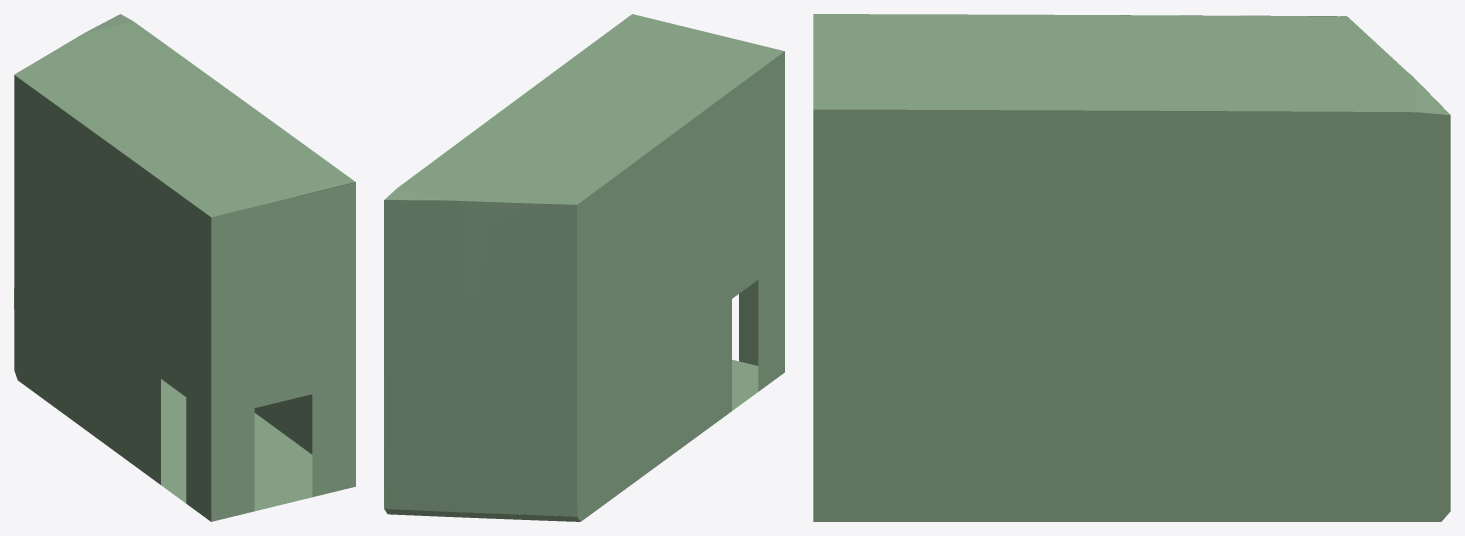
File: WELDING_WORKSHOP.glb
The picture shows the model from 3 angles, left to right: view 1: azimuth 30°, elevation 25°; view 2: azimuth 150°, elevation 25°; view 3: azimuth 270°, elevation 25°; orthographic projection. The views are drawn at different scales.
Parts seen in each view (by area): view 1: PL_SideTransxFR2P_001001-11_NVA36_2014, PL_No8LBHDxAPTP_009003-10_NVA_1993, PL_SideTransxFR2P_001002-11_NVA36_2014, PL_UDxAPTP_003003-12_NVA_1993, PL_No8LBHDxAPTP_009005-10_NVA_1993, PL_UDxAPTP_002003-12_NVA_1993, PL_UDxAPTP_014005-12_NVA_1993, PL_UDxAPTP_002005-12_NVA_1993, PL_No8LBHDxAPTP_013008-10_NVA_1993, PL_TankTopxAPTP_008003-12.5_NVA_1993, PL_No8LBHDxAPTP_013015-10_NVA_1993, PL_No8LBHDxAPTP_013010-10_NVA_1993 (+8 smaller); view 2: PL_SideTransxFR2P_001001-11_NVA36_2014, PL_OuterShellxAPTP_014003-18.5_NVA_1993, PL_OuterShellxAPTP_014005-18.5_NVA_1993, PL_SideTransxFR2P_001002-11_NVA36_2014, PL_UDxAPTP_003003-12_NVA_1993, PL_OuterShellxAPTP_013005-18.5_NVA_1993, PL_UDxAPTP_002003-12_NVA_1993, PL_OuterShellxAPTP_013006-18.5_NVA_1993, PL_UDxAPTP_014005-12_NVA_1993, PL_OuterShellxAPTP_013010-18.5_NVA_1993, PL_UDxAPTP_002005-12_NVA_1993, PL_OuterShellxAPTP_013011-18.5_NVA_1993 (+5 smaller); view 3: PL_SideTransxFR6P_003001-11_NVA_1993, PL_SideTransxFR6P_001001-11_NVA_1993, PL_SideTransxFR6P_002002-11_NVA_1993, PL_SideTransxFR6P_002001-11_NVA_1993, PL_UDxAPTP_003003-12_NVA_1993, PL_SideTransxFR6P_001002-11_NVA_1993, PL_UDxAPTP_002003-12_NVA_1993, PL_UDxAPTP_014005-12_NVA_1993, PL_UDxAPTP_002005-12_NVA_1993, PL_UDxAPTP_012003-12_NVA_1993.
Part boxes in pixels (<box>): PL_SideTransxFR2P_001001-11_NVA36_2014: <box>14,75,211,453</box>; PL_No8LBHDxAPTP_009003-10_NVA_1993: <box>211,196,297,385</box>; PL_SideTransxFR2P_001002-11_NVA36_2014: <box>14,310,160,484</box>; PL_UDxAPTP_003003-12_NVA_1993: <box>14,45,202,148</box>; PL_No8LBHDxAPTP_009005-10_NVA_1993: <box>298,184,348,364</box>; PL_UDxAPTP_002003-12_NVA_1993: <box>117,127,297,217</box>; PL_UDxAPTP_014005-12_NVA_1993: <box>89,31,260,127</box>; PL_UDxAPTP_002005-12_NVA_1993: <box>203,113,355,195</box>; PL_No8LBHDxAPTP_013008-10_NVA_1993: <box>211,364,297,453</box>; PL_TankTopxAPTP_008003-12.5_NVA_1993: <box>161,379,312,500</box>; PL_No8LBHDxAPTP_013015-10_NVA_1993: <box>298,352,348,428</box>; PL_No8LBHDxAPTP_013010-10_NVA_1993: <box>211,443,254,521</box>; PL_SideTransxFR2P_001001-11_NVA36_2014: <box>577,51,784,452</box>; PL_OuterShellxAPTP_014003-18.5_NVA_1993: <box>461,201,576,366</box>; PL_OuterShellxAPTP_014005-18.5_NVA_1993: <box>384,200,460,362</box>; PL_SideTransxFR2P_001002-11_NVA36_2014: <box>577,339,731,521</box>; PL_UDxAPTP_003003-12_NVA_1993: <box>473,102,684,204</box>; PL_OuterShellxAPTP_013005-18.5_NVA_1993: <box>461,362,576,452</box>; PL_UDxAPTP_002003-12_NVA_1993: <box>594,29,784,124</box>; PL_OuterShellxAPTP_013006-18.5_NVA_1993: <box>461,448,577,516</box>; PL_UDxAPTP_014005-12_NVA_1993: <box>412,87,592,191</box>; PL_OuterShellxAPTP_013010-18.5_NVA_1993: <box>384,359,460,448</box>; PL_UDxAPTP_002005-12_NVA_1993: <box>533,14,692,102</box>; PL_OuterShellxAPTP_013011-18.5_NVA_1993: <box>384,445,460,512</box>; PL_SideTransxFR6P_003001-11_NVA_1993: <box>813,109,1272,337</box>; PL_SideTransxFR6P_001001-11_NVA_1993: <box>1273,111,1450,429</box>; PL_SideTransxFR6P_002002-11_NVA_1993: <box>813,429,1272,521</box>; PL_SideTransxFR6P_002001-11_NVA_1993: <box>813,337,1272,429</box>; PL_UDxAPTP_003003-12_NVA_1993: <box>1069,15,1378,73</box>; PL_SideTransxFR6P_001002-11_NVA_1993: <box>1273,429,1450,521</box>; PL_UDxAPTP_002003-12_NVA_1993: <box>813,14,1069,72</box>; PL_UDxAPTP_014005-12_NVA_1993: <box>1069,72,1378,111</box>; PL_UDxAPTP_002005-12_NVA_1993: <box>813,71,1069,110</box>; PL_UDxAPTP_012003-12_NVA_1993: <box>1378,73,1449,114</box>.
Bounding box in the file's own units: 3 × 6.04 × 8.45.
